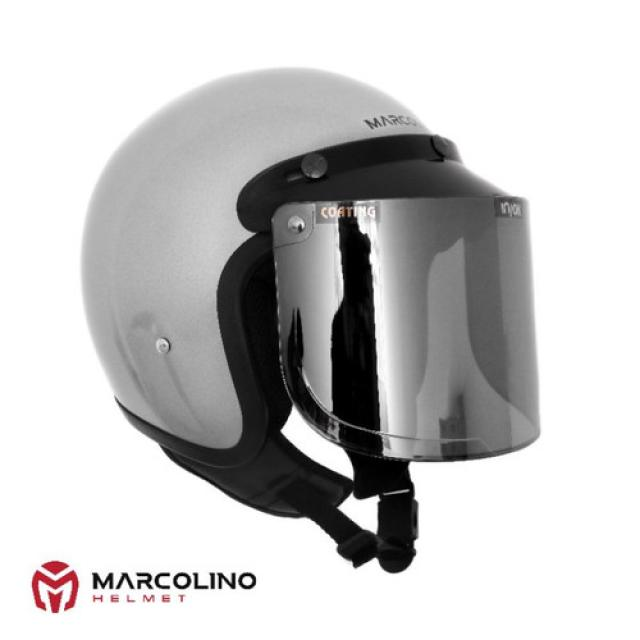Helm: (60, 52, 568, 580)
